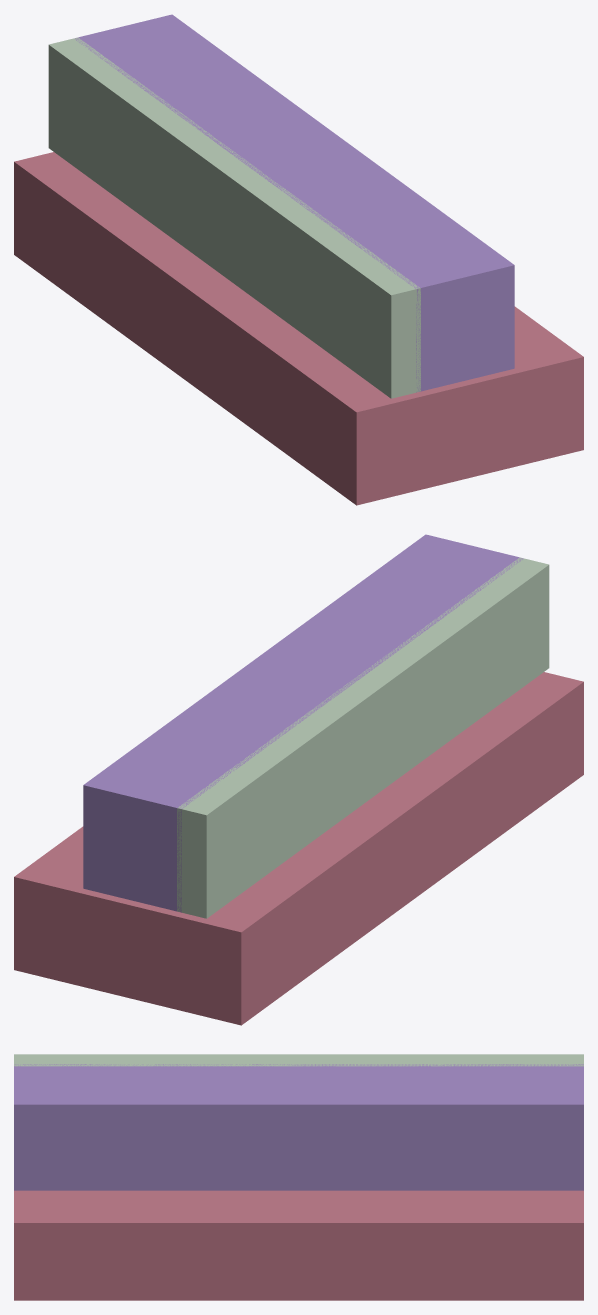
3 views of the same model, one above another, from view 1: azimuth 30°, elevation 25°; view 2: azimuth 150°, elevation 25°; view 3: azimuth 270°, elevation 25° (orthographic). The views are drawn at different scales.
Visible parts, largest first — view 1: world; view 2: world; view 3: world.
Part boxes in pixels (<box>): world: <box>14,14,583,505</box>; world: <box>14,534,583,1025</box>; world: <box>14,1054,583,1300</box>.
Bounding box in the file's own units: 2.3 × 1.95 × 6.
